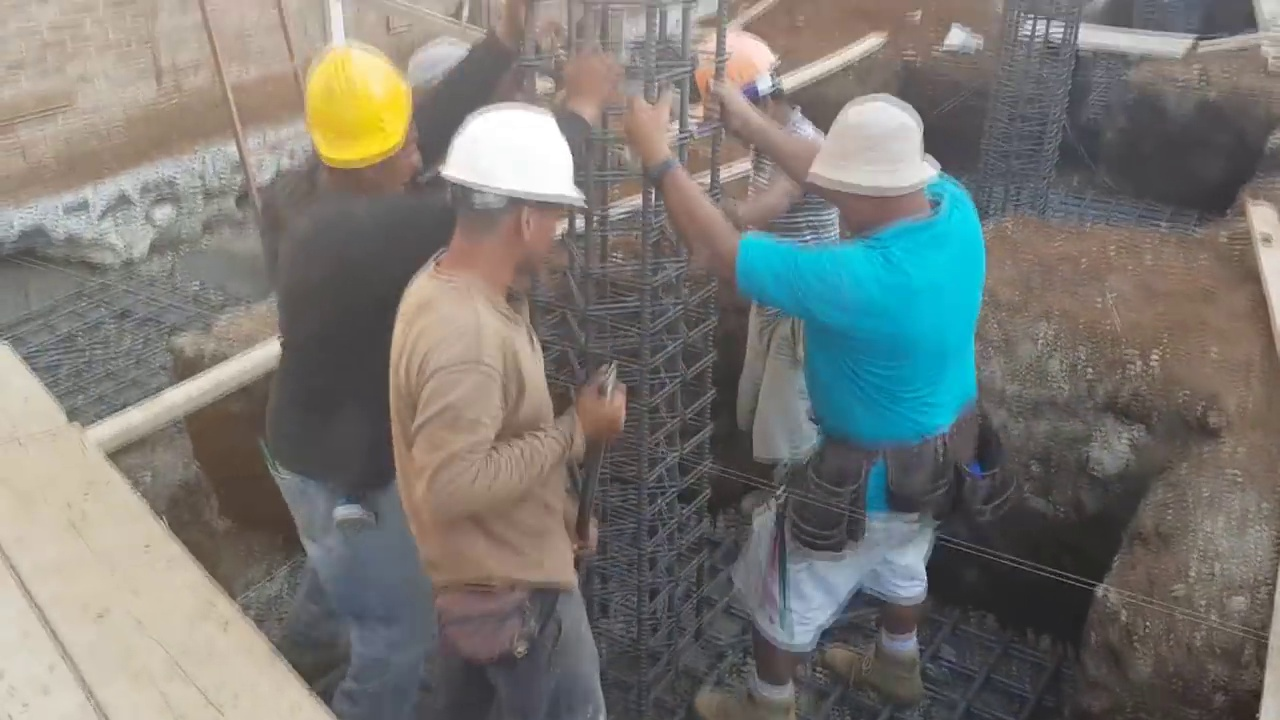helmet: (428, 98, 588, 208), (292, 40, 421, 170), (694, 32, 779, 92)
helmet-off: (810, 85, 942, 245)
helmet-on: (414, 93, 588, 305), (297, 37, 419, 202), (691, 33, 799, 147)
person: (577, 40, 980, 696), (377, 96, 626, 720), (240, 8, 452, 699), (691, 27, 824, 525)
